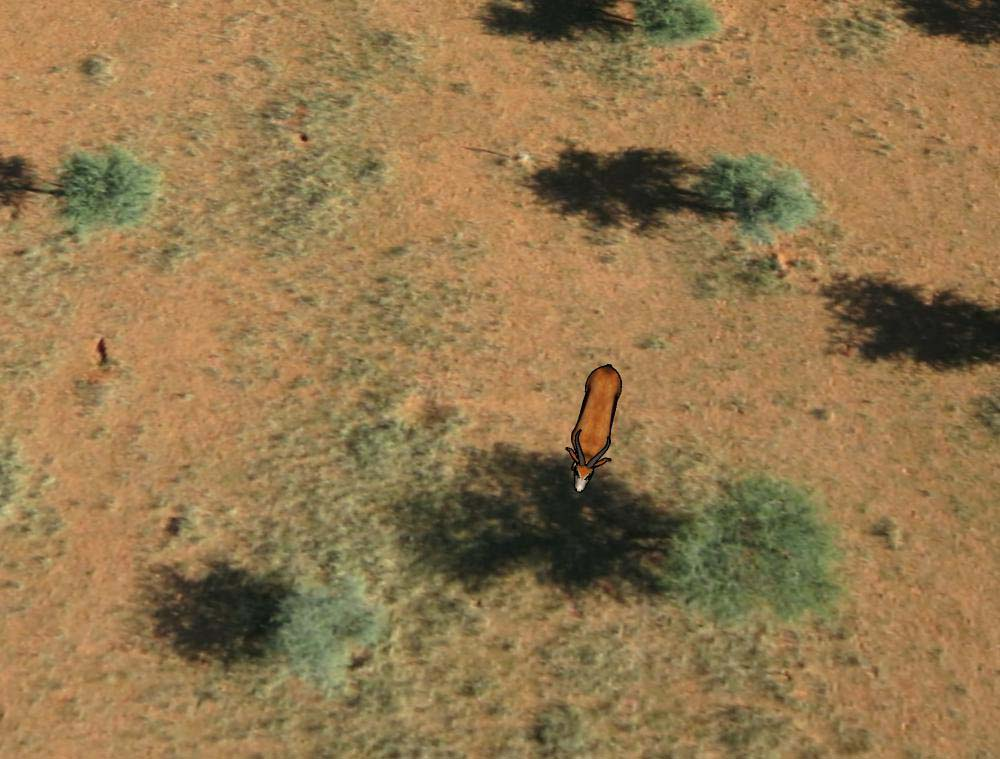springbok: (565, 362, 630, 496)
